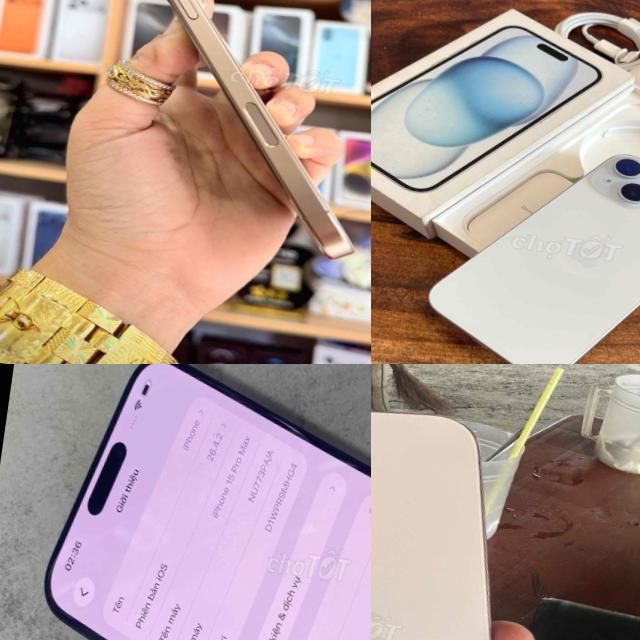gen_12_13: (415, 126, 640, 364)
gen_15: (3, 364, 371, 640)
gen_16: (168, 0, 354, 258), (371, 412, 491, 640)
